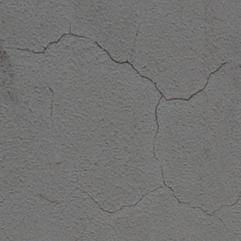fissura: (18, 25, 239, 225)
